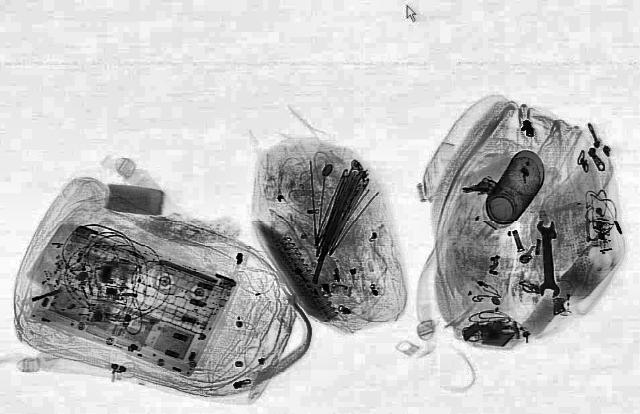Wrench: (536, 218, 560, 296)
